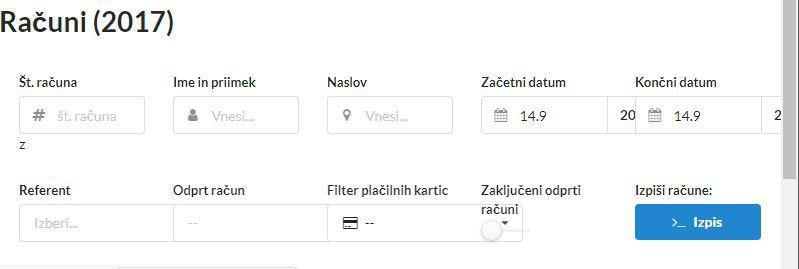button: (636, 205, 762, 241)
input: (611, 96, 763, 136), (19, 205, 175, 243), (177, 205, 328, 243), (330, 206, 479, 244), (176, 96, 299, 137), (482, 98, 607, 136), (328, 97, 452, 134), (21, 99, 144, 134)
label: (1, 8, 175, 39), (480, 182, 587, 202), (326, 184, 453, 200), (172, 73, 258, 93), (482, 74, 569, 93), (636, 75, 724, 93), (633, 182, 716, 200), (15, 74, 85, 94), (175, 182, 246, 199), (19, 183, 76, 200), (327, 75, 373, 93)
slider: (479, 221, 536, 243)
